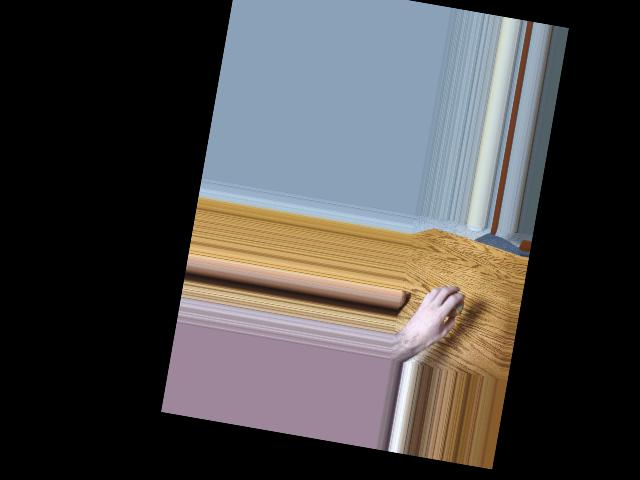onion: (436, 286, 467, 321)
